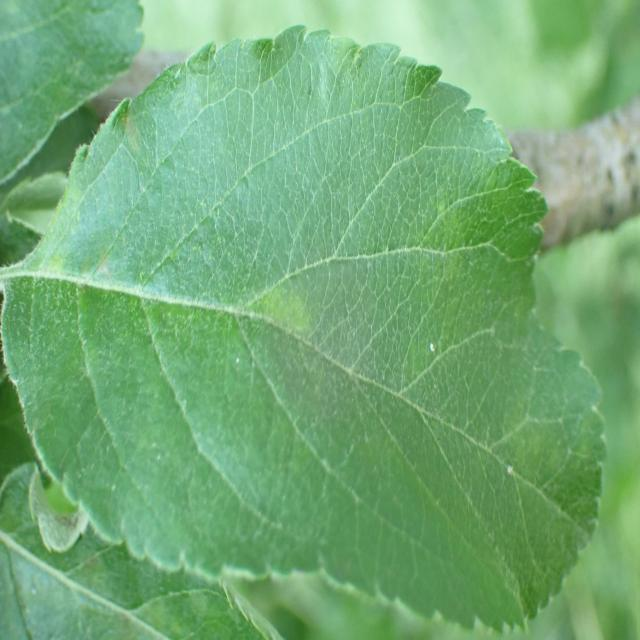scab: (50, 90, 587, 586)
